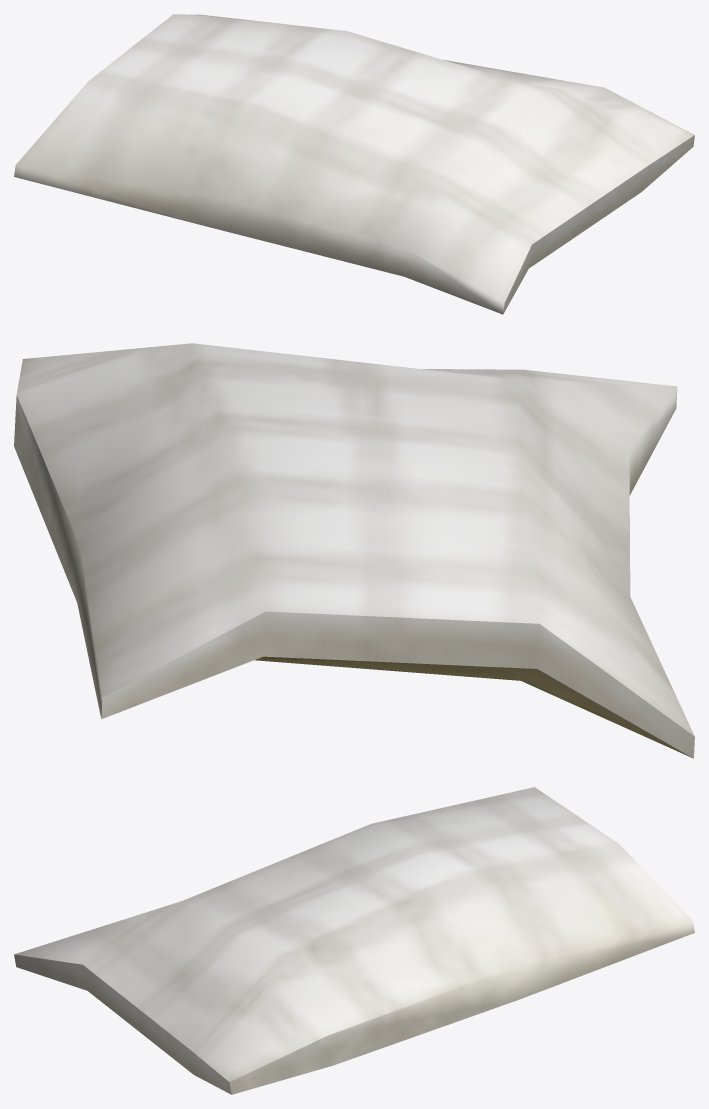
The model's file is G_DanShenHan_baozhen_02.FBX.
The picture shows the model from 3 angles, top to bottom: view 1: azimuth 30°, elevation 25°; view 2: azimuth 150°, elevation 25°; view 3: azimuth 270°, elevation 25°; orthographic projection. The views are drawn at different scales.
Parts seen in each view (by area): view 1: DanShenHan_baozhen_02; view 2: DanShenHan_baozhen_02; view 3: DanShenHan_baozhen_02.
Part boxes in pixels (x1,y1,x2,y2): DanShenHan_baozhen_02: (14, 14, 694, 314); DanShenHan_baozhen_02: (14, 343, 694, 758); DanShenHan_baozhen_02: (14, 787, 694, 1094).
Size of the model in its own units: 76.89 by 16.06 by 80.01.
